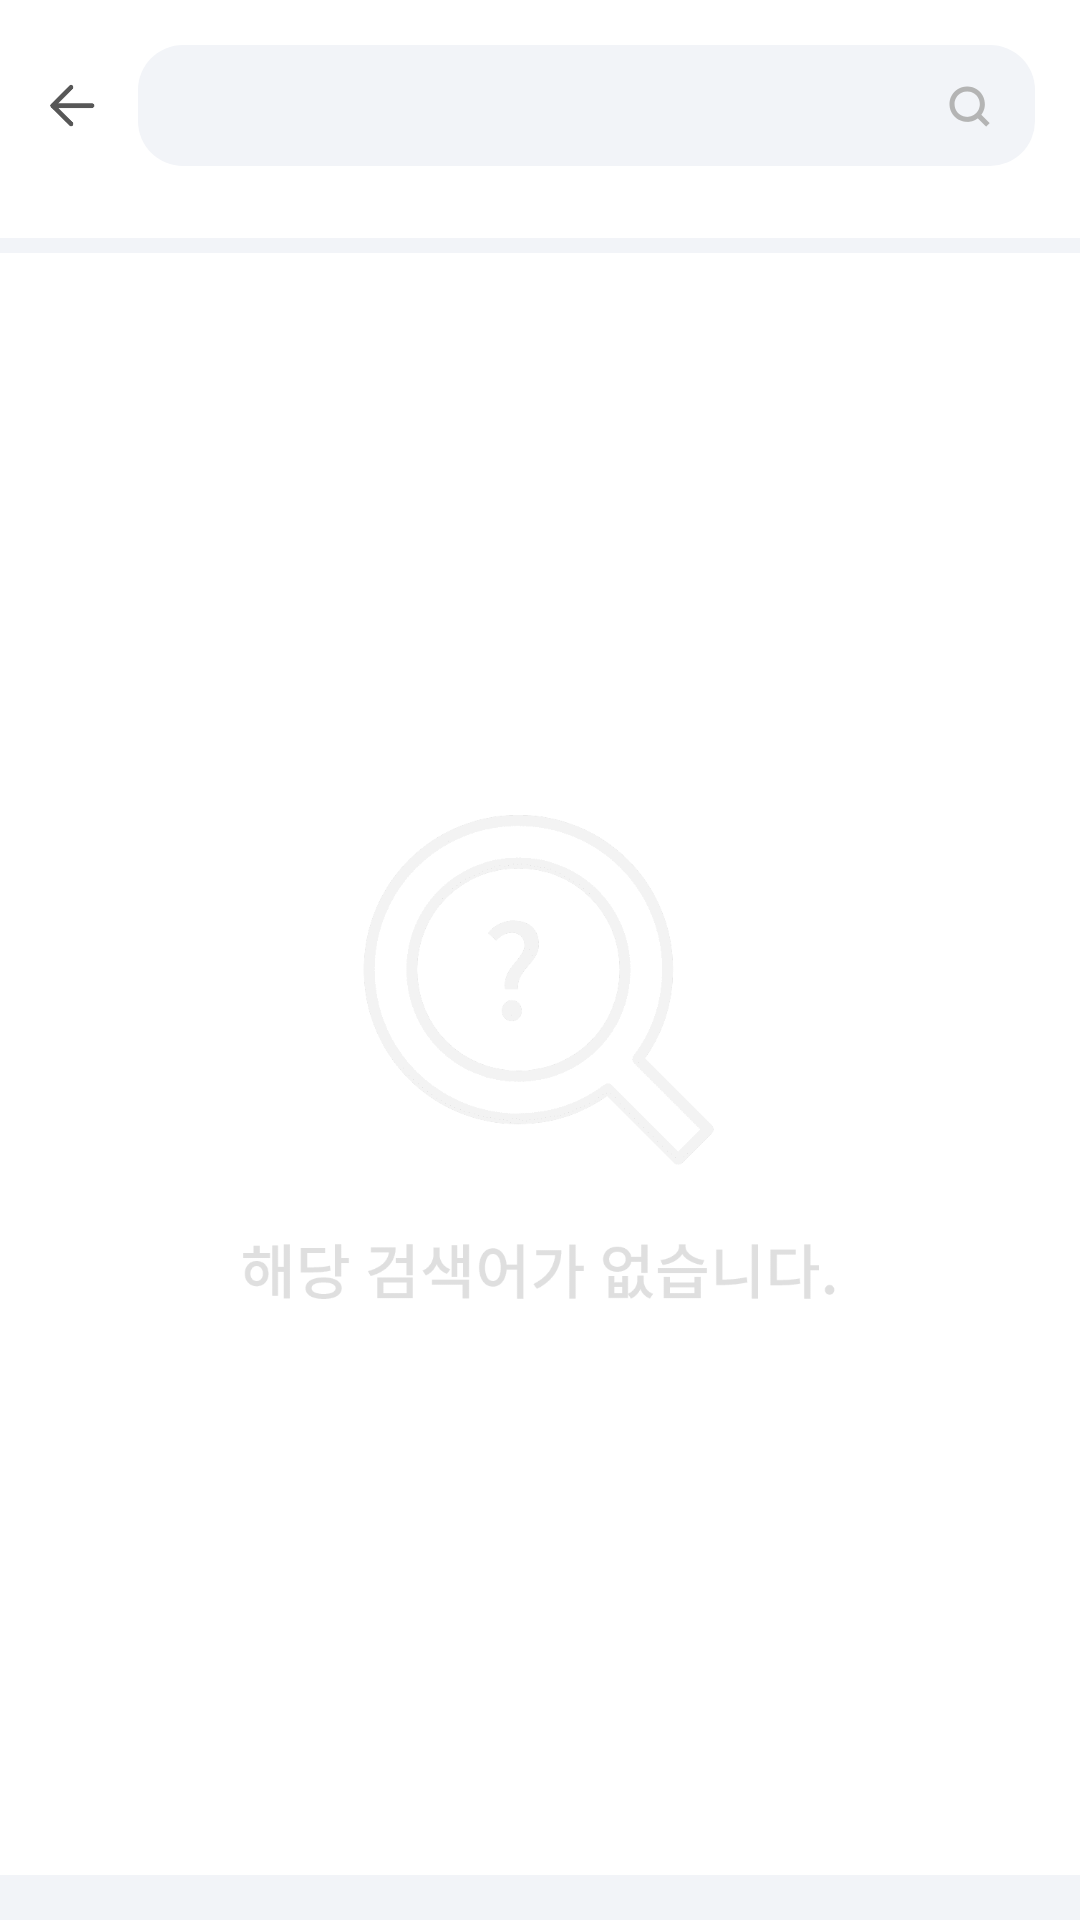

Locate icon controls on the screen. Image size 1080x1920, boxes as (x1, y1, x2, y2).
back: (50, 85, 95, 126)
search: (949, 86, 989, 126)
